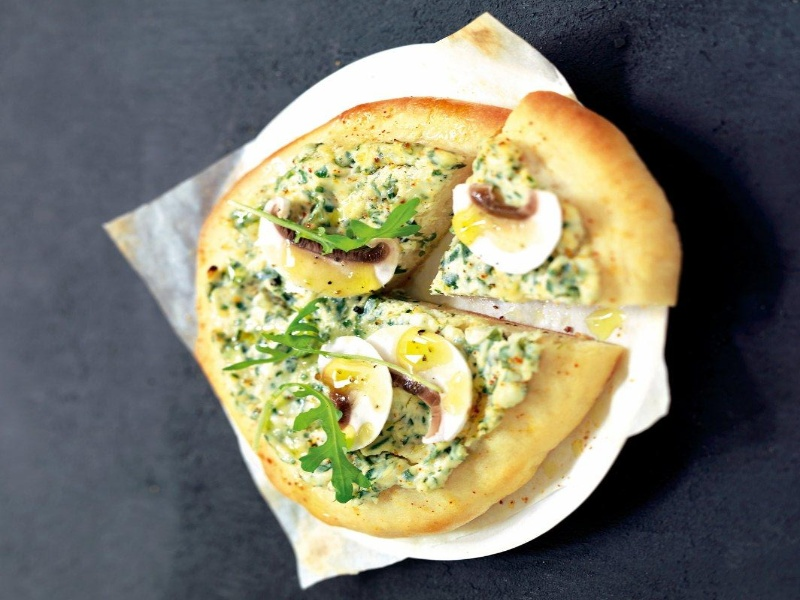champignon: (245, 195, 407, 301), (442, 172, 571, 280), (367, 325, 485, 442), (302, 324, 393, 457)
